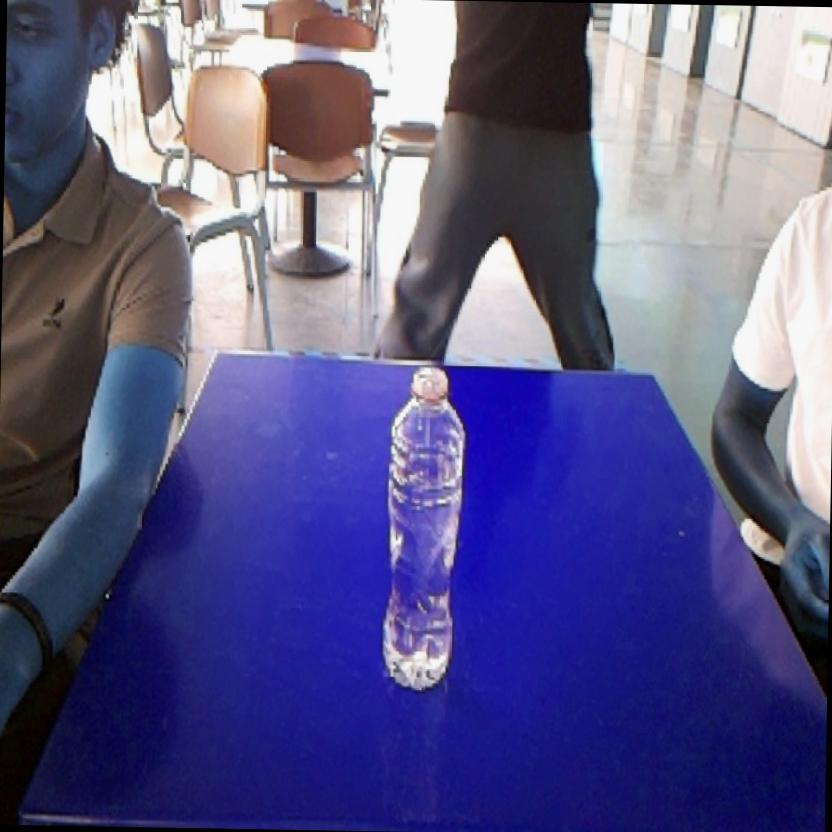no_cap: (375, 358, 473, 698)
